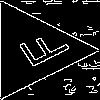F: (8, 25, 72, 75)
